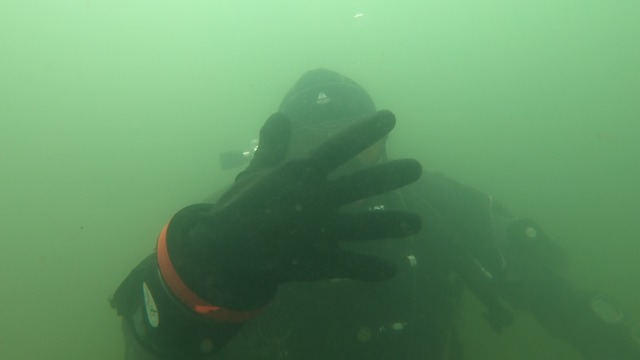Diver: (96, 64, 622, 352)
Hand: (134, 111, 433, 306)
Head: (257, 66, 402, 243)
